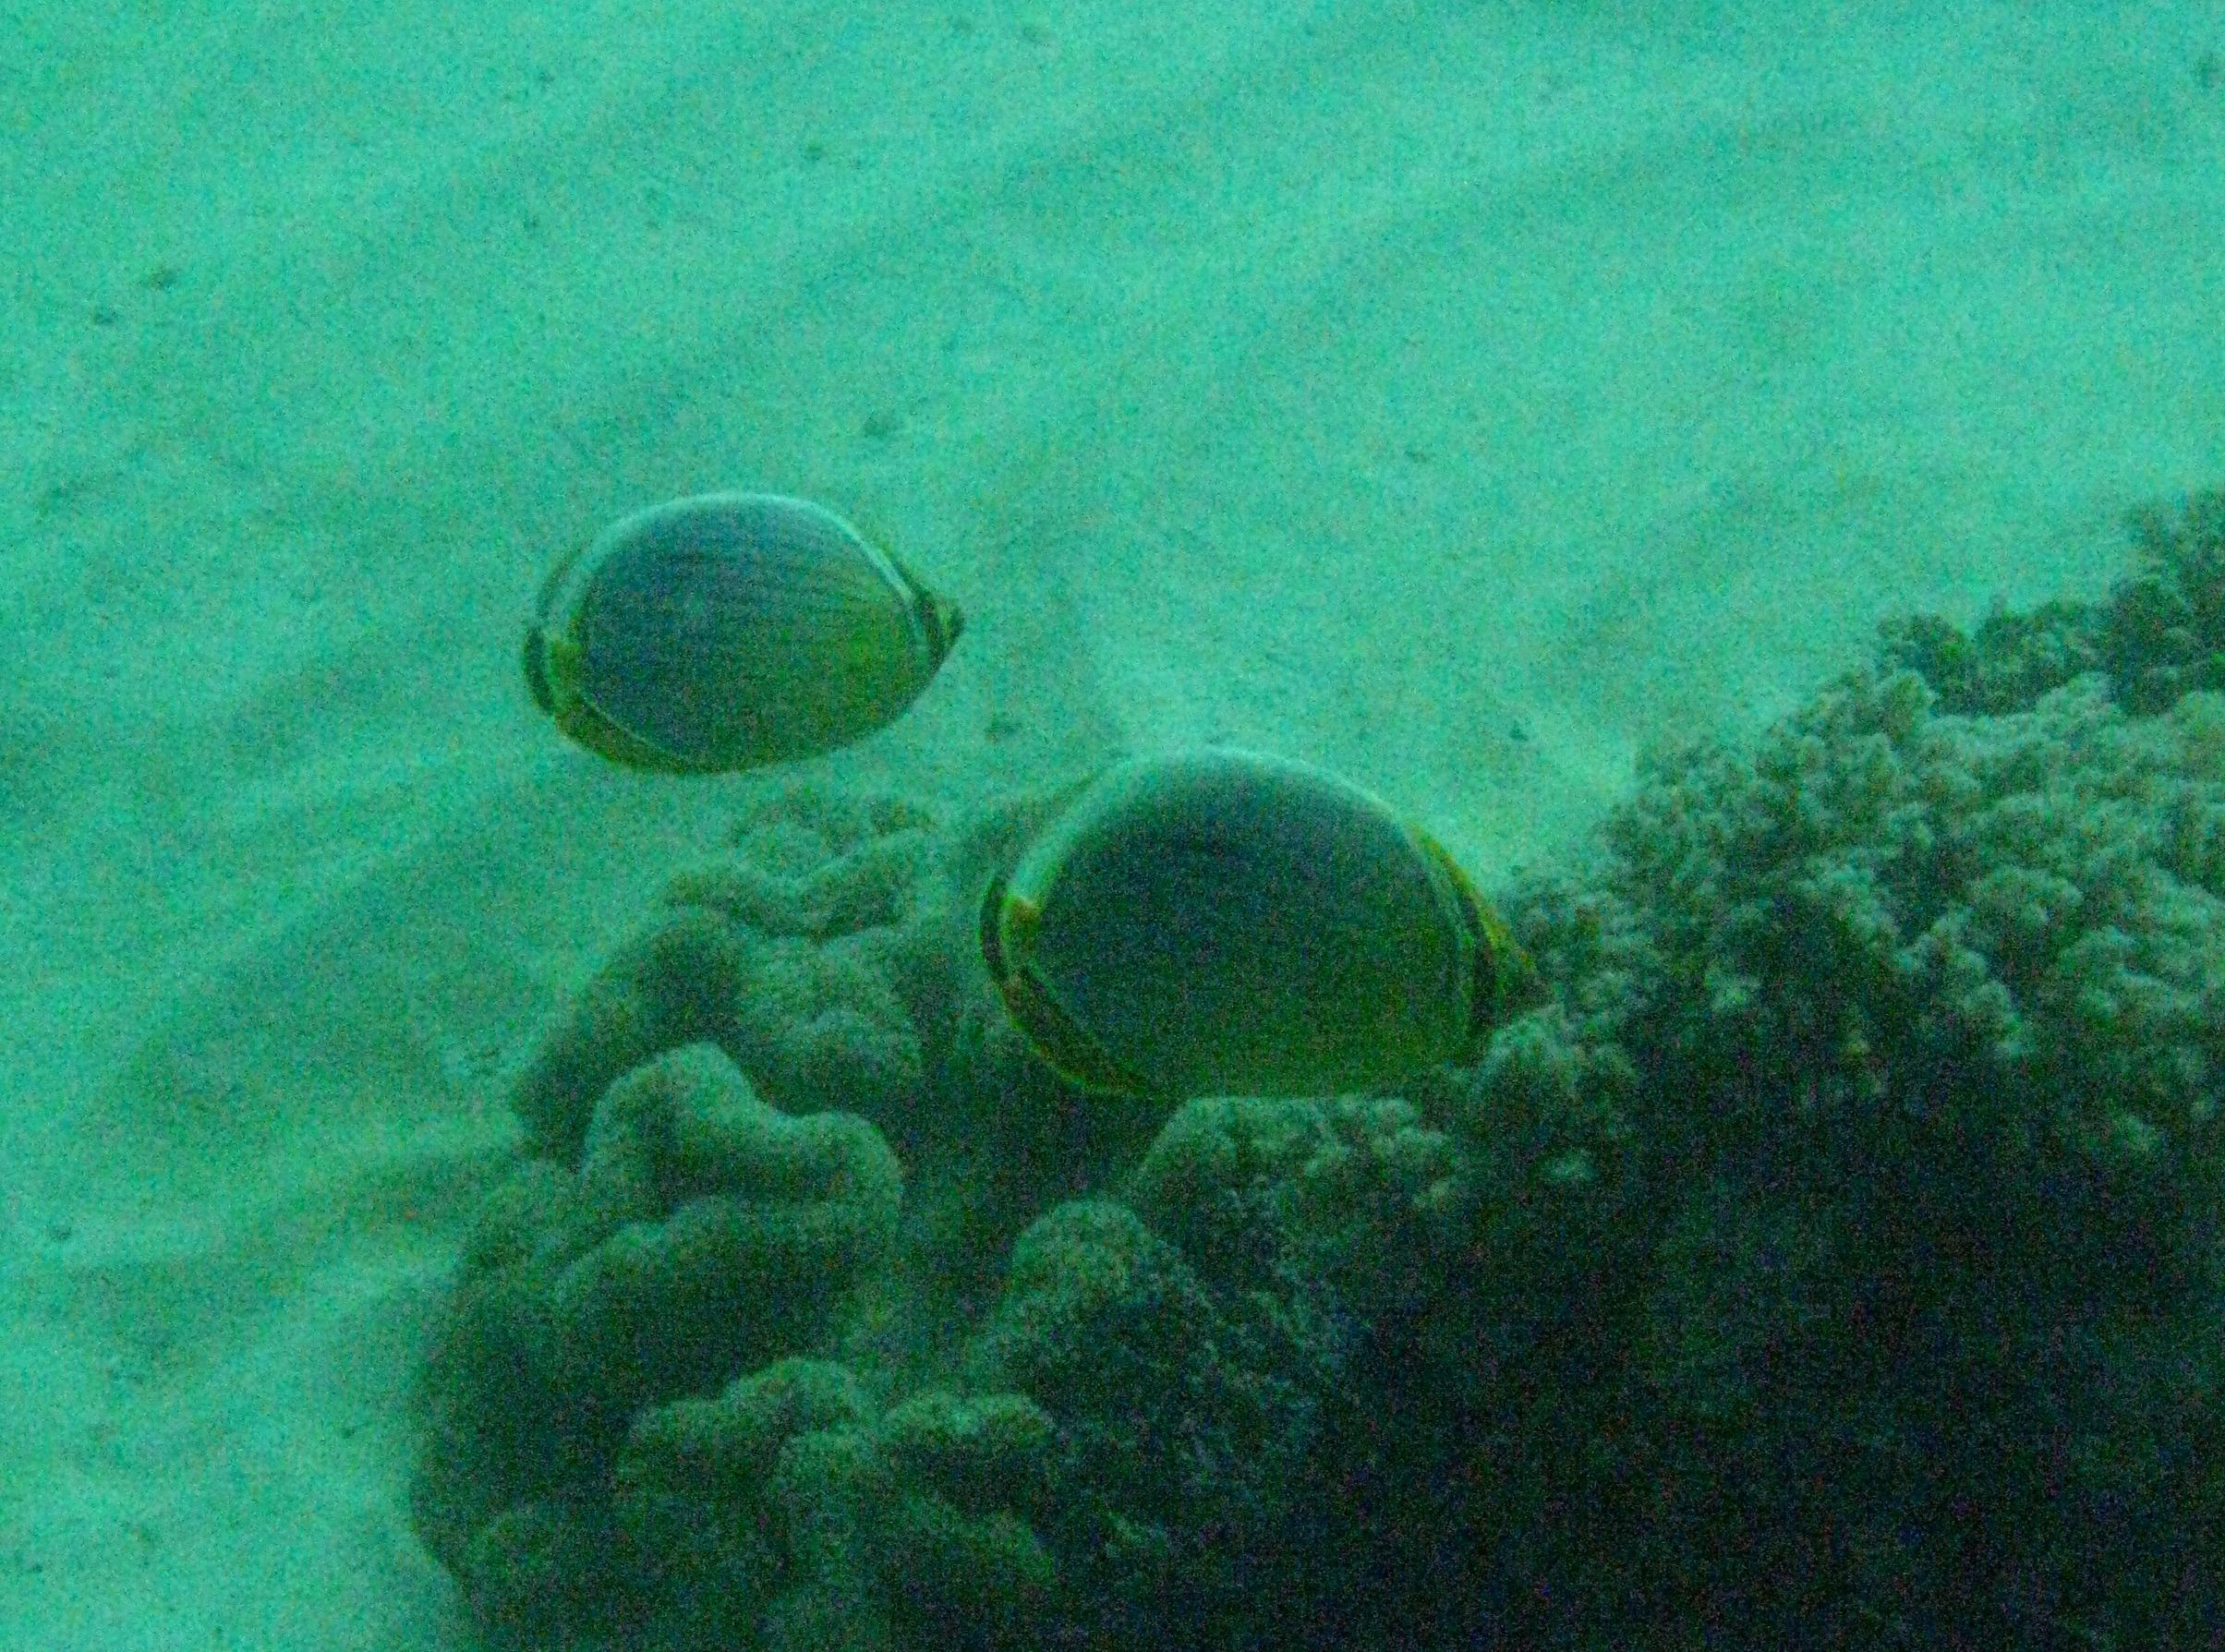Chaetodon trifasciatus: (937, 744, 1564, 1123), (481, 444, 1000, 791)
